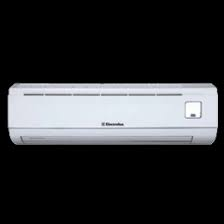ac: (7, 79, 220, 148)
